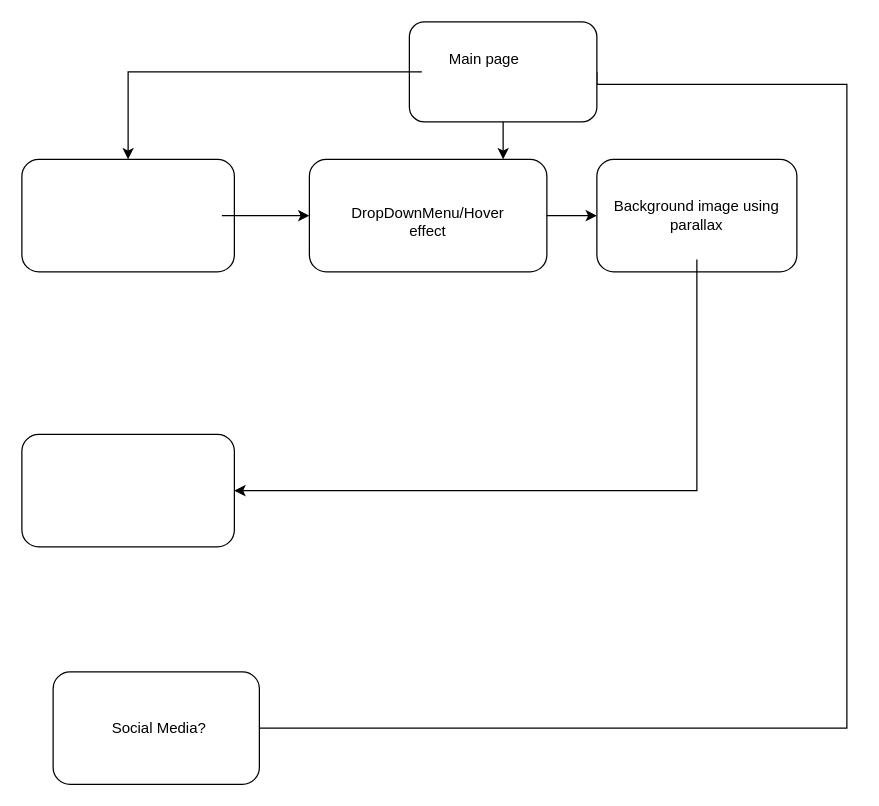
The diagram is 879 pixels wide and 806 high, and some of its shapes have lost their labels. The shapes that lost their labels are listed below. From the top down, each one's centre as x and y in pixels, then its label:
(x=127, y=215): Parallax effect
(x=127, y=490): scroll down to see other parts of the page
